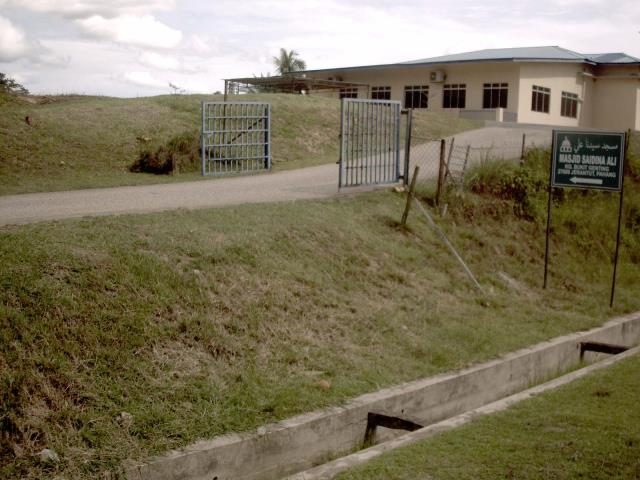ads_sign: (540, 120, 634, 199)
